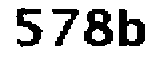5: (14, 5, 46, 52)
7: (48, 4, 79, 50)
8: (82, 4, 115, 52)
b: (116, 5, 150, 52)
